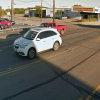Car: (5, 20, 63, 60)
